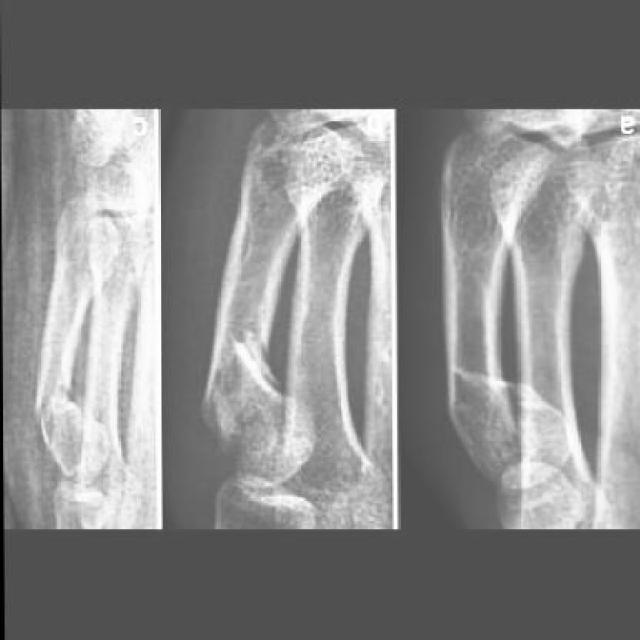Fracture: (433, 343, 546, 454), (192, 331, 290, 439), (25, 365, 87, 459)
